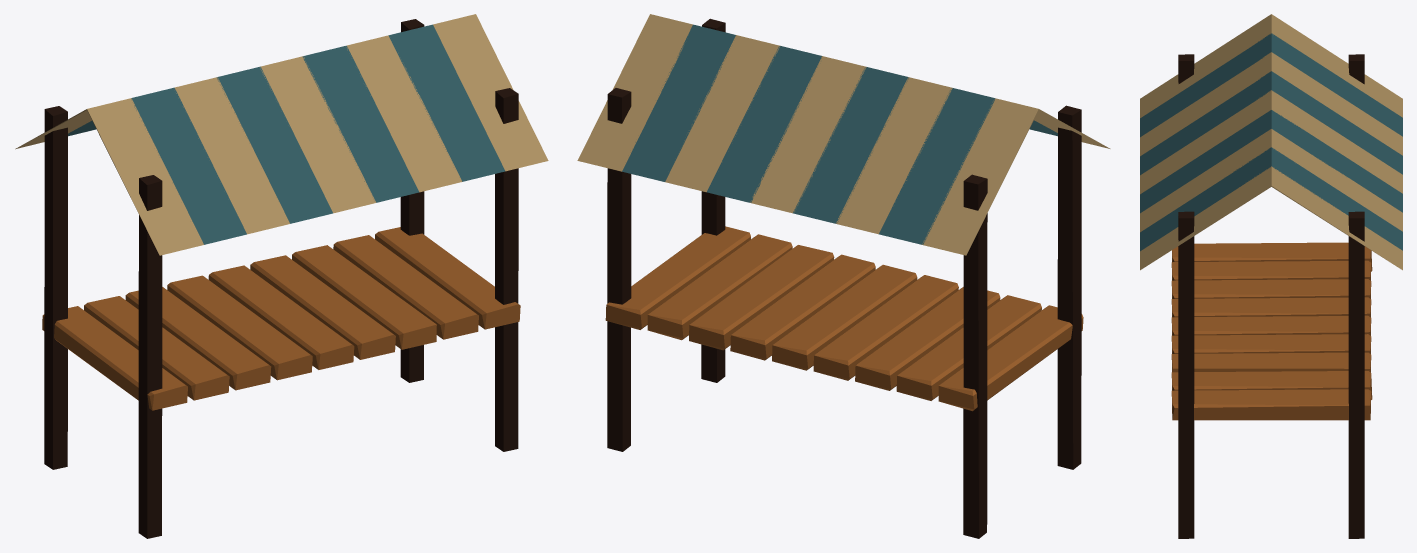
The model's file is Banca_de_mercado_LOD1.fbx.
The picture shows the model from 3 angles, left to right: view 1: azimuth 30°, elevation 25°; view 2: azimuth 150°, elevation 25°; view 3: azimuth 270°, elevation 25°; orthographic projection. The views are drawn at different scales.
Parts seen in each view (by area): view 1: Banca_de_mercado_LOD1; view 2: Banca_de_mercado_LOD1; view 3: Banca_de_mercado_LOD1.
Boxes of the visible parts, <box> form: Banca_de_mercado_LOD1: <box>15,14,548,538</box>; Banca_de_mercado_LOD1: <box>577,14,1110,538</box>; Banca_de_mercado_LOD1: <box>1140,14,1402,538</box>.
Bounding box in the file's own units: 262 × 254 × 170.
1 material, 1 textured.
